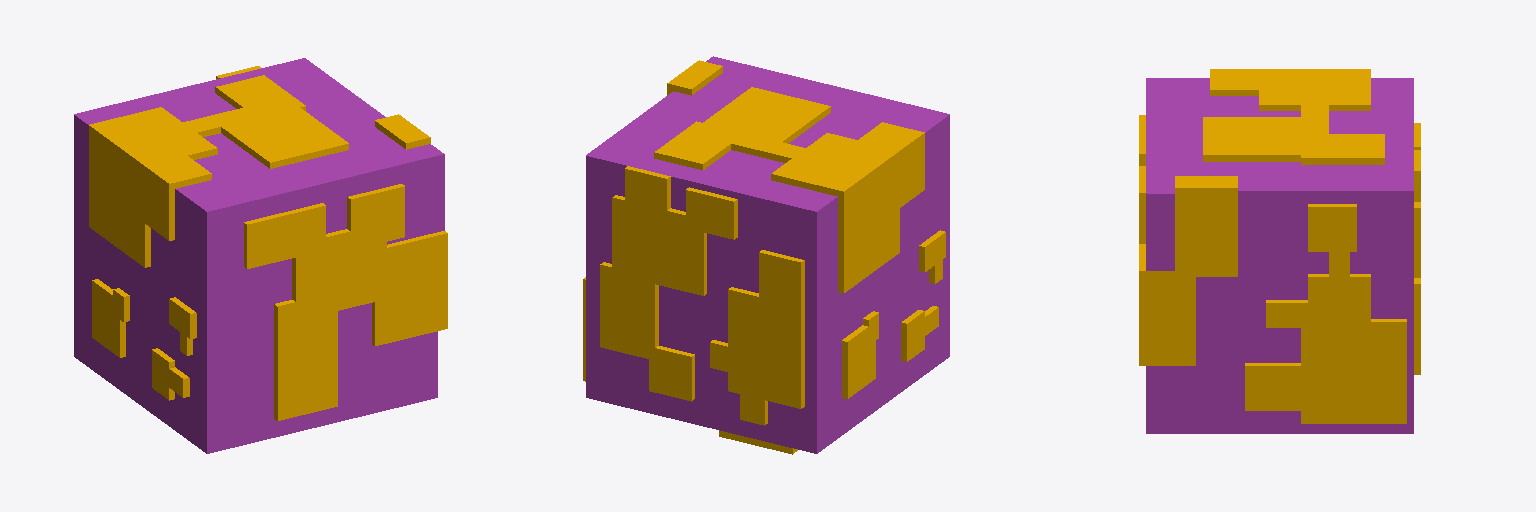
3 renders of one model, left to right at view 1: azimuth 30°, elevation 25°; view 2: azimuth 150°, elevation 25°; view 3: azimuth 270°, elevation 25°, orthographic.
Bounding box in the file's own units: 40 × 40 × 40.
Materials: 1 (1 with a texture image).